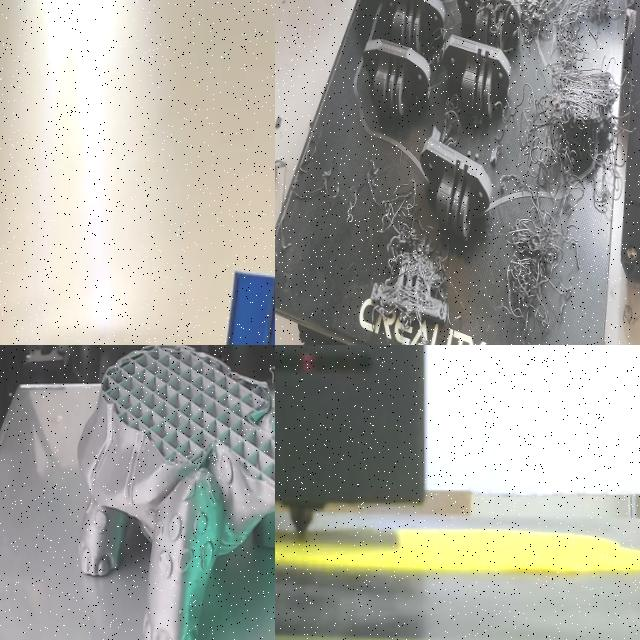spaghetti: (343, 169, 460, 342), (496, 186, 597, 345), (515, 57, 621, 206), (447, 0, 624, 56), (289, 130, 376, 220)
